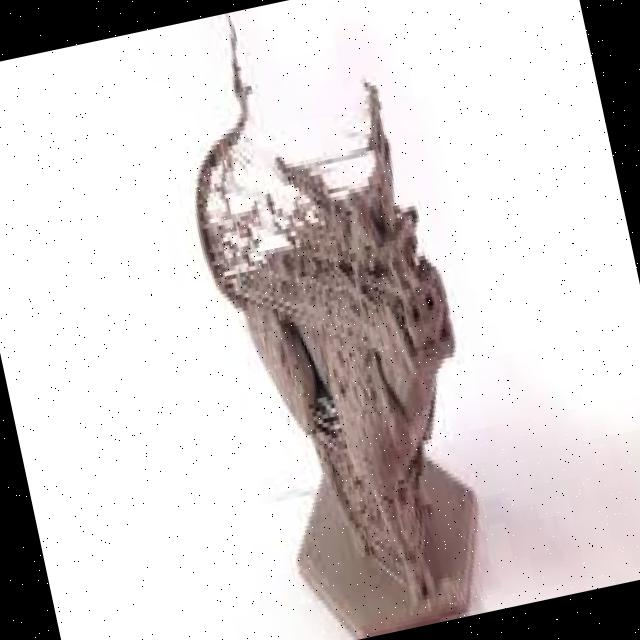stringing: (190, 131, 363, 344)
